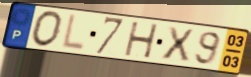7: (94, 15, 127, 56)
9: (193, 30, 223, 66)
H: (123, 21, 160, 60)
L: (59, 13, 87, 53)
O: (30, 9, 65, 49)
X: (160, 25, 196, 63)
